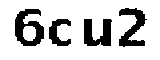2: (116, 5, 150, 54)
6: (13, 5, 46, 52)
c: (47, 14, 78, 50)
u: (80, 11, 117, 51)
